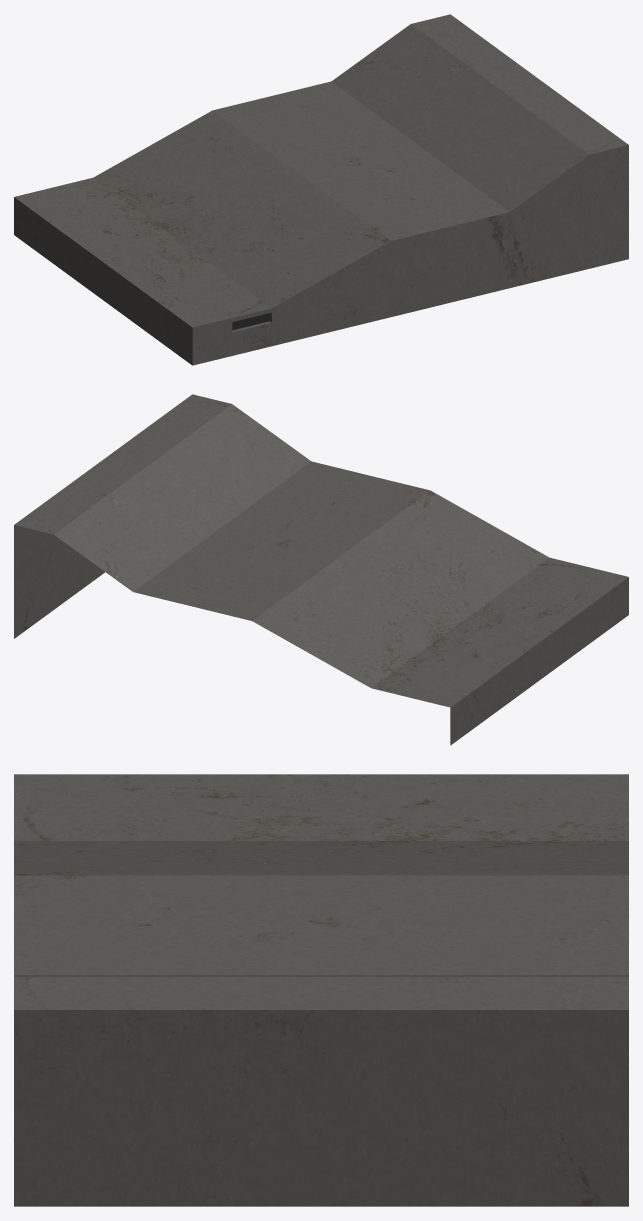
Rendered from sm_cb01_module18.glb.
3 views of the same model, one above another, from view 1: azimuth 30°, elevation 25°; view 2: azimuth 150°, elevation 25°; view 3: azimuth 270°, elevation 25° (orthographic). The views are drawn at different scales.
Parts seen in each view (by area): view 1: sm_cb01_module18; view 2: sm_cb01_module18; view 3: sm_cb01_module18.
Boxes of the visible parts, x1=… form: sm_cb01_module18: x1=14, y1=14, x2=628, y2=365; sm_cb01_module18: x1=14, y1=394, x2=628, y2=745; sm_cb01_module18: x1=14, y1=774, x2=628, y2=1206.
Size of the model in its own units: 12 by 3 by 8.5.
Materials: 1 (1 with a texture image).
